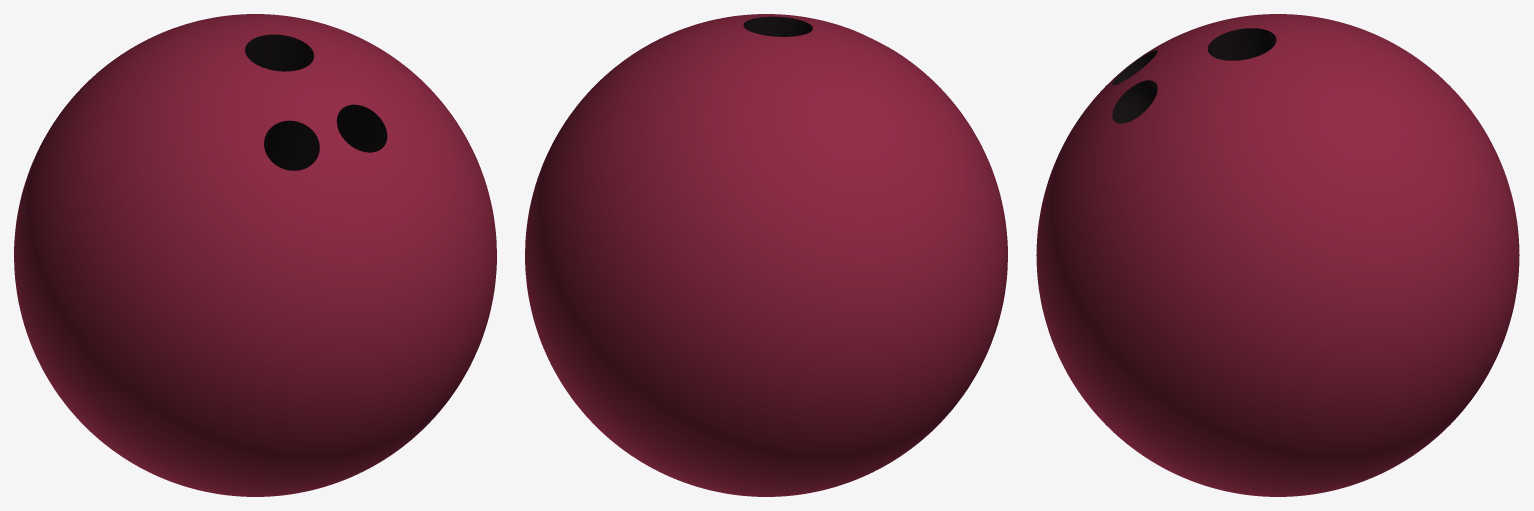
The model's file is pearl-ball.glb.
3 renders of one model, left to right at view 1: azimuth 30°, elevation 25°; view 2: azimuth 150°, elevation 25°; view 3: azimuth 270°, elevation 25°, orthographic.
Visible parts, largest first — view 1: 15 lb drilled reactive ball; view 2: 15 lb drilled reactive ball; view 3: 15 lb drilled reactive ball.
Boxes of the visible parts, x1,y1,x2,y2 form: 15 lb drilled reactive ball: (14, 14, 496, 496); 15 lb drilled reactive ball: (525, 14, 1007, 496); 15 lb drilled reactive ball: (1036, 14, 1519, 496).
Size of the model in its own units: 0.217 by 0.217 by 0.217.
